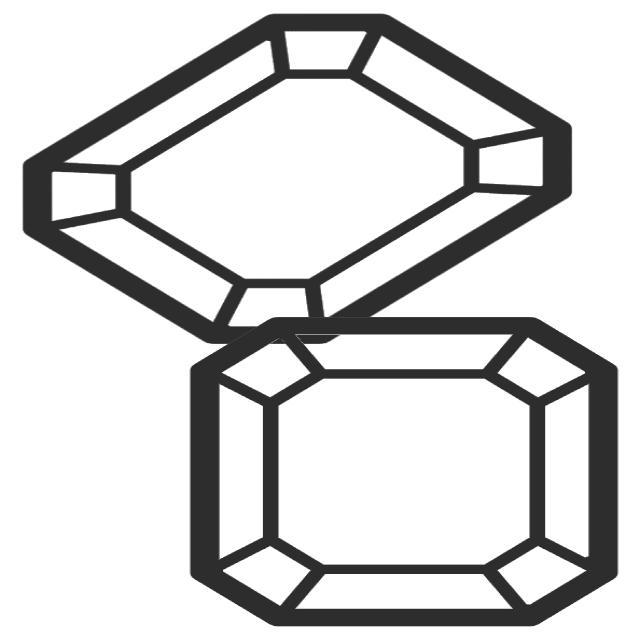emerald: (17, 1, 580, 350), (172, 312, 631, 635)
